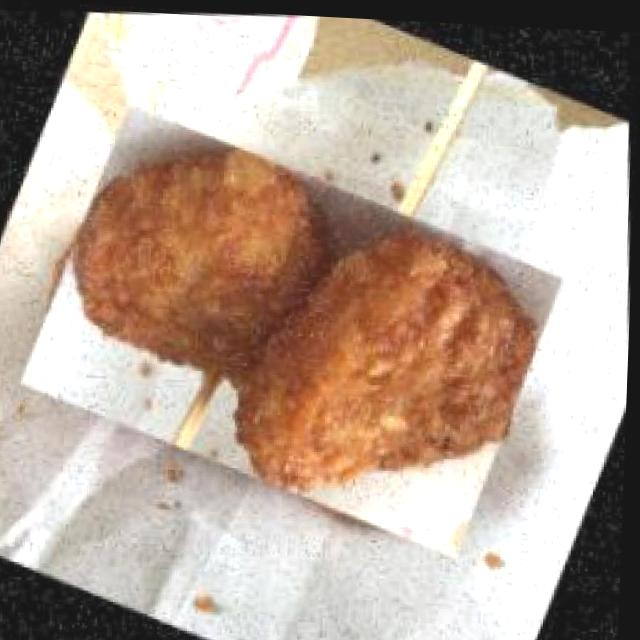triangle_hash_brown: (9, 81, 583, 572)
